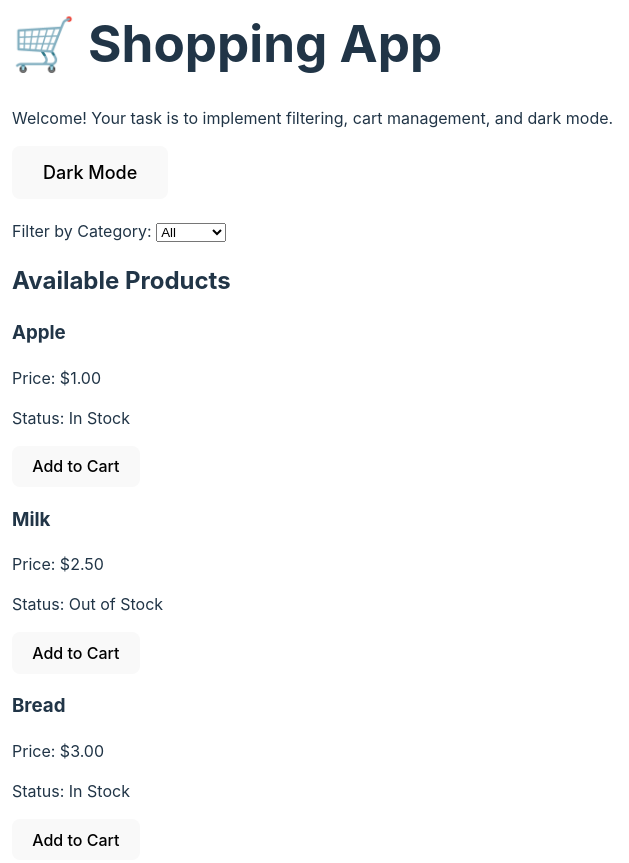
Test: filters products by category
The width and height of the screenshot is (629, 863).
Select "Fruits" in the dropdown: (191, 232) [156, 223, 226, 242]
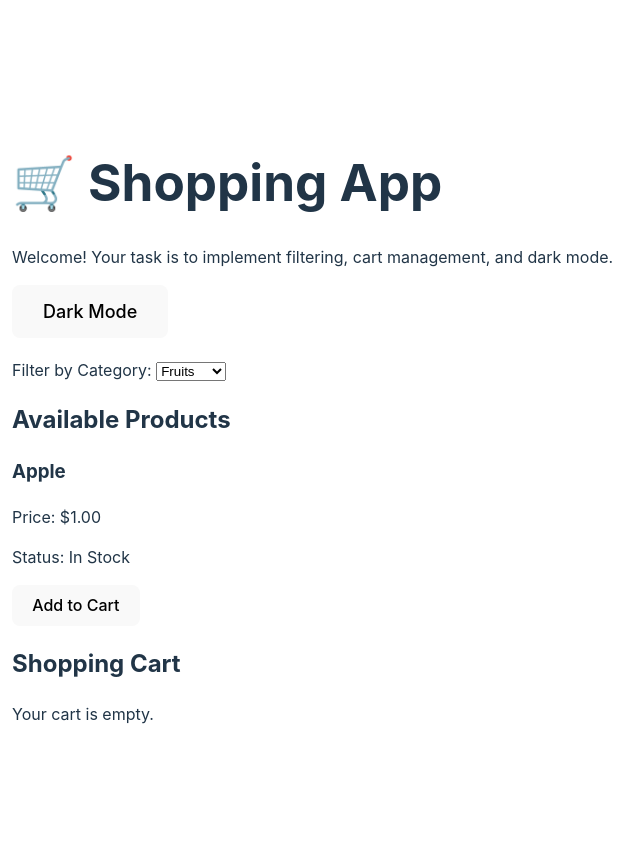
Expected: the heading "Apple" is shown, [12, 460, 66, 483]
Result: the heading "Milk" is gone
